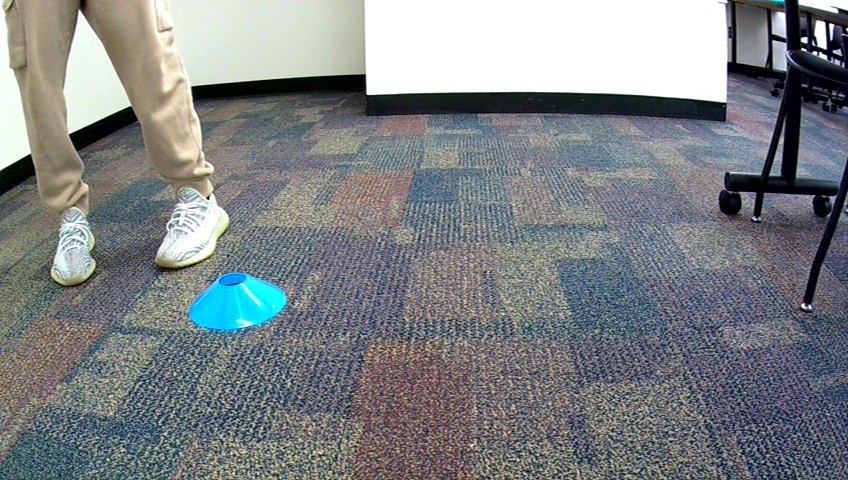cone: (189, 273, 288, 330)
